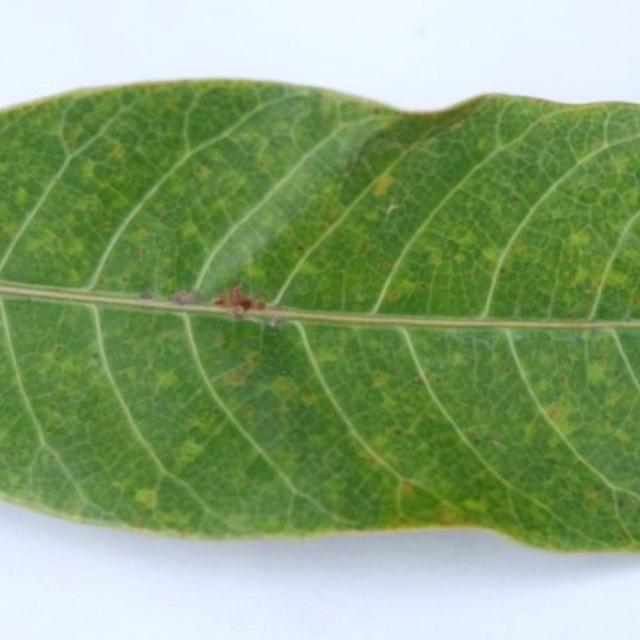Mango: (0, 296, 639, 549), (0, 82, 639, 323)
Powdery_Mildew: (102, 128, 175, 183), (80, 148, 144, 186), (590, 274, 637, 321), (151, 473, 197, 515), (541, 326, 624, 345), (572, 136, 623, 162), (127, 486, 171, 516), (221, 359, 257, 388), (268, 374, 302, 399), (174, 439, 205, 465), (544, 400, 572, 426), (313, 345, 346, 365), (371, 172, 396, 197), (154, 370, 182, 392), (390, 280, 419, 301), (168, 288, 201, 306), (362, 449, 390, 470), (79, 194, 104, 217), (604, 269, 632, 289), (240, 261, 264, 283), (565, 230, 592, 249), (268, 134, 294, 153), (461, 496, 490, 513), (179, 220, 201, 242), (78, 159, 99, 182), (62, 237, 85, 258), (116, 365, 141, 384), (439, 501, 461, 522), (105, 139, 127, 160), (586, 362, 609, 382), (294, 260, 320, 277), (571, 265, 593, 285), (521, 421, 541, 443), (134, 488, 157, 507), (583, 486, 605, 505), (65, 124, 85, 144), (481, 246, 502, 264), (610, 155, 631, 173), (368, 433, 390, 450), (397, 480, 419, 497), (457, 230, 479, 247), (370, 369, 390, 387), (13, 186, 31, 206), (298, 391, 320, 407), (192, 163, 211, 181), (426, 251, 445, 267), (448, 352, 466, 367), (4, 447, 22, 460), (237, 297, 253, 311), (51, 344, 66, 358), (231, 304, 244, 317), (266, 316, 280, 328), (138, 289, 153, 300), (470, 432, 482, 445), (590, 324, 604, 335), (385, 203, 399, 214), (556, 375, 568, 387), (491, 438, 505, 448), (615, 495, 626, 507), (89, 352, 100, 363), (255, 301, 266, 311), (234, 280, 244, 291), (213, 297, 225, 306), (392, 428, 403, 437), (372, 106, 382, 115), (356, 293, 365, 302), (583, 288, 594, 295), (503, 367, 512, 375), (296, 244, 305, 252), (25, 296, 35, 303), (121, 275, 129, 282)
